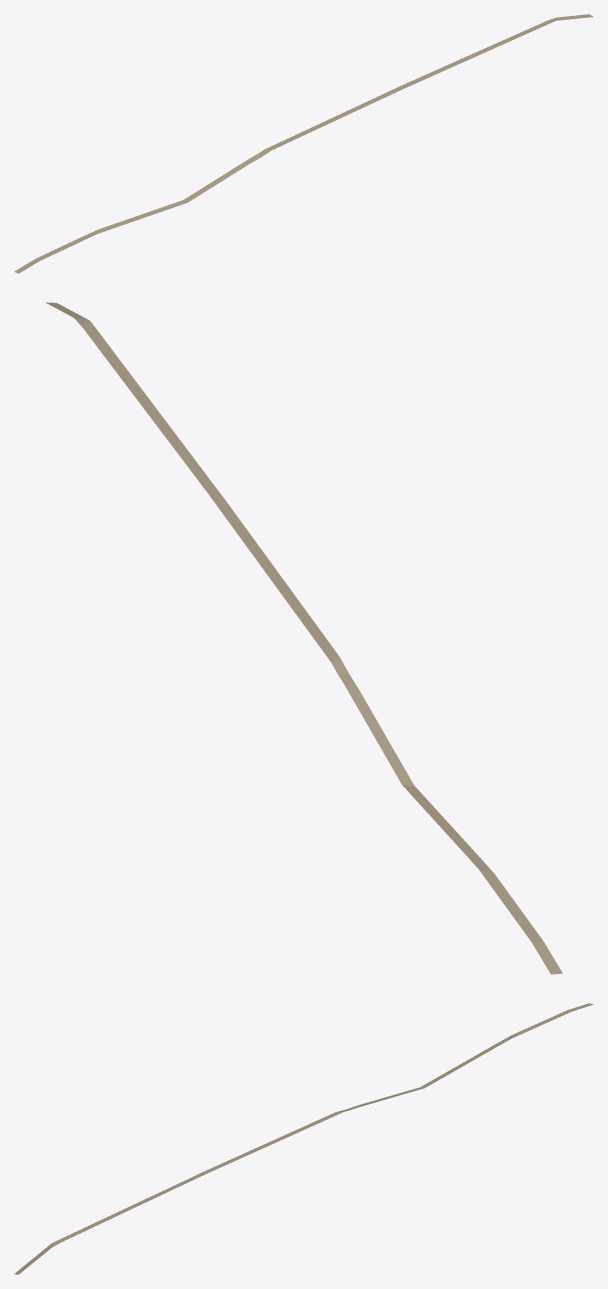
The model's file is farm_-34_-24_track.glb.
3 views of the same model, one above another, from view 1: azimuth 90°, elevation 25°; view 2: azimuth 150°, elevation 25°; view 3: azimuth 270°, elevation 25° (orthographic). The views are drawn at different scales.
Visible parts, largest first — view 1: geometry_0; view 2: geometry_0; view 3: geometry_0.
Boxes of the visible parts, left/top/right/bottom form: geometry_0: left=14, top=14, right=593, bottom=273; geometry_0: left=45, top=302, right=562, bottom=974; geometry_0: left=14, top=1003, right=593, bottom=1274.
Size of the model in its own units: 328 by 9.11 by 302.
